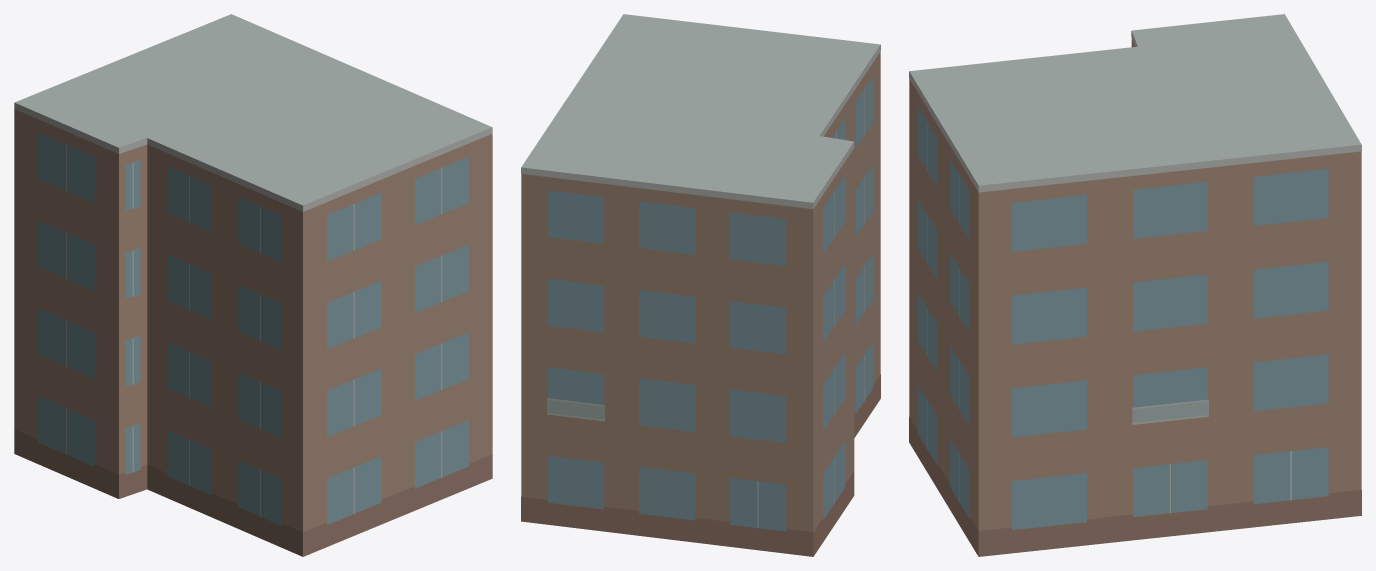
File: survey-upis-32936070.glb
3 views of the same model, side by side, from view 1: azimuth 30°, elevation 25°; view 2: azimuth 150°, elevation 25°; view 3: azimuth 270°, elevation 25° (orthographic). The views are drawn at different scales.
Parts seen in each view (by area): view 1: survey-upis-32936070.tmp; view 2: survey-upis-32936070.tmp; view 3: survey-upis-32936070.tmp.
Boxes of the visible parts, x1=… form: survey-upis-32936070.tmp: x1=14, y1=14, x2=492, y2=556; survey-upis-32936070.tmp: x1=521, y1=14, x2=880, y2=556; survey-upis-32936070.tmp: x1=909, y1=14, x2=1361, y2=556.
Size of the model in its own units: 13.41 by 13.5 by 14.93.
